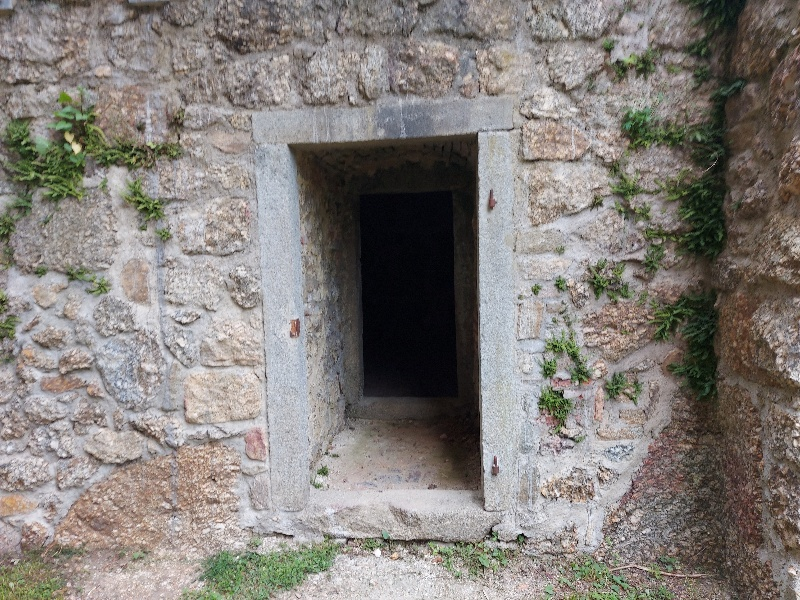door1: (243, 88, 545, 568)
